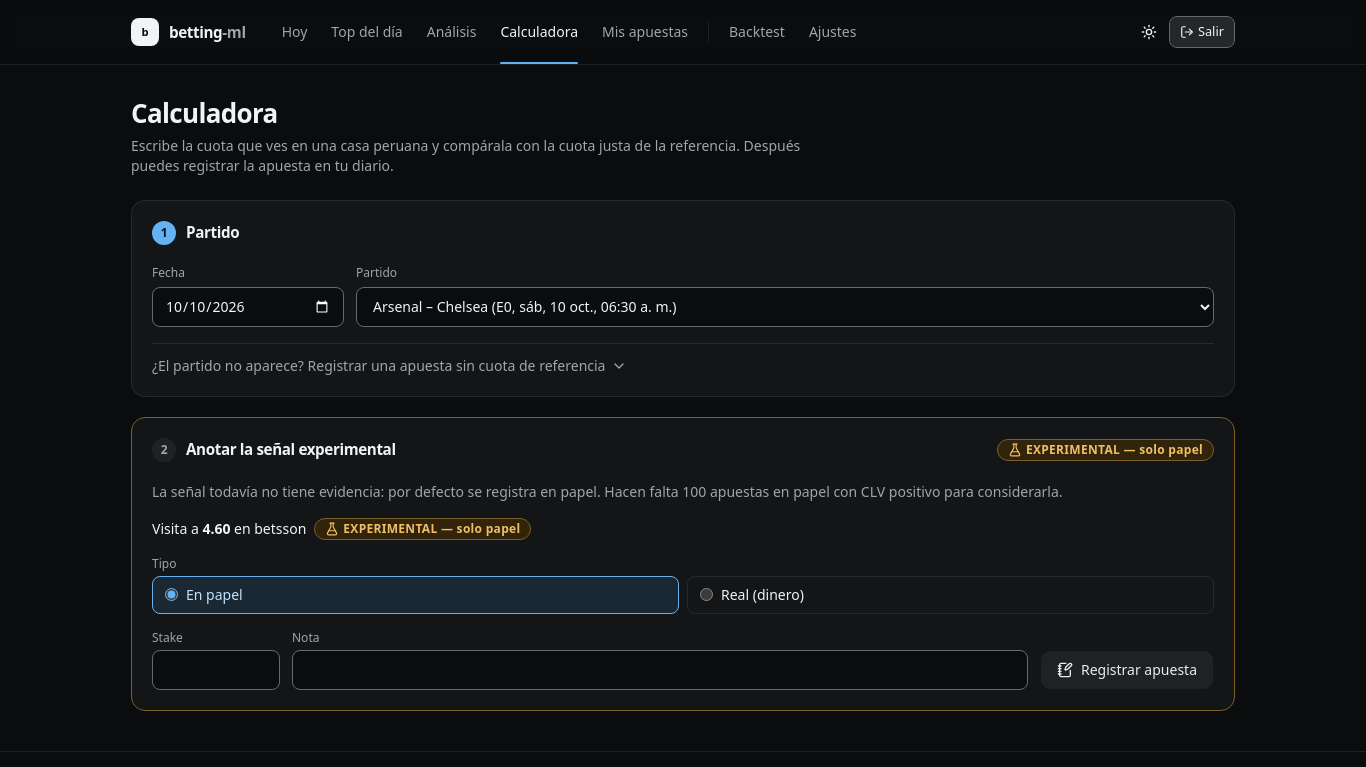
Test: a bet from the experimental signal defaults to paper and is flagged
Expected: the text "EXPERIMENTAL — solo papel" next to "betsson" is shown, [343,520,520,536]
Expected: the radio button labelled "En papel" is checked, [165,588,178,601]
Type "2" into the field labelled "Stake" at (216, 670), box [152,650,280,690]
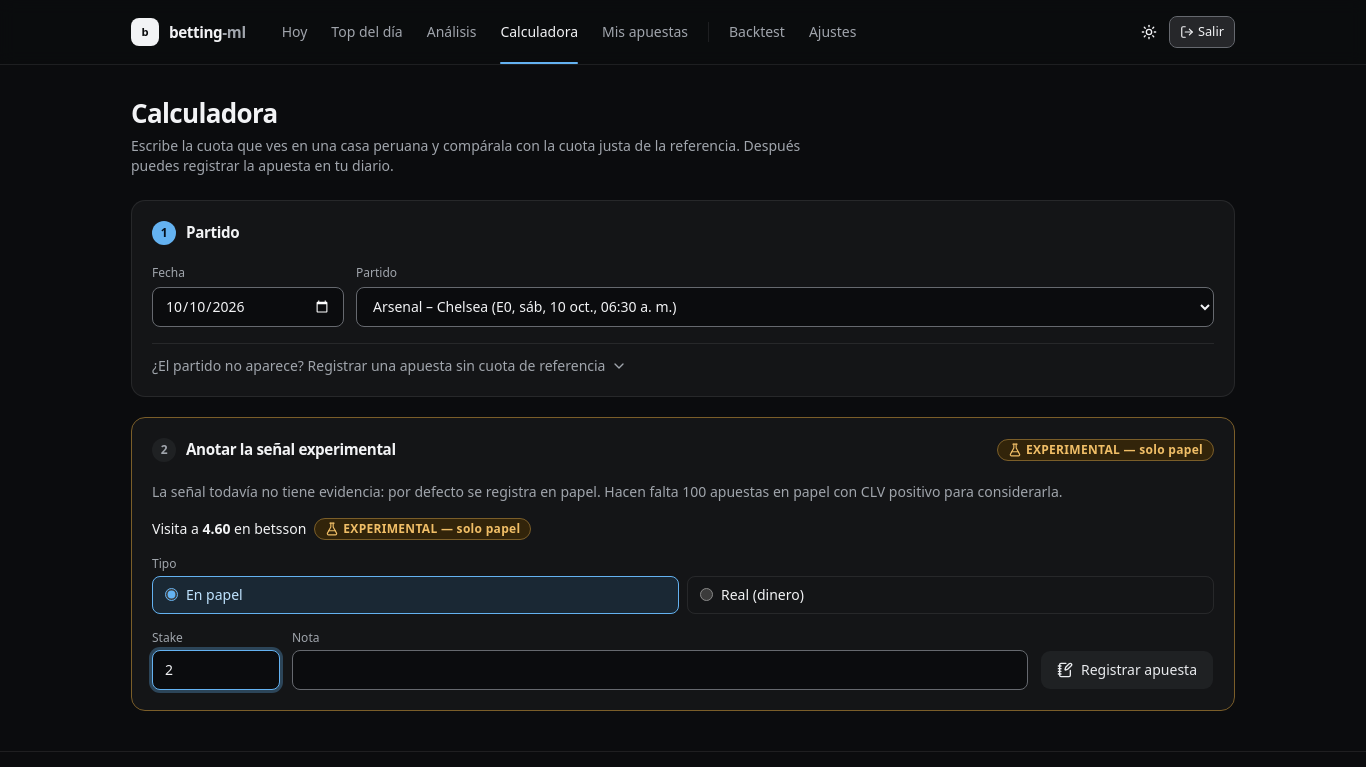
Click the button "Registrar apuesta" at (1127, 670), box [1040,650,1214,690]
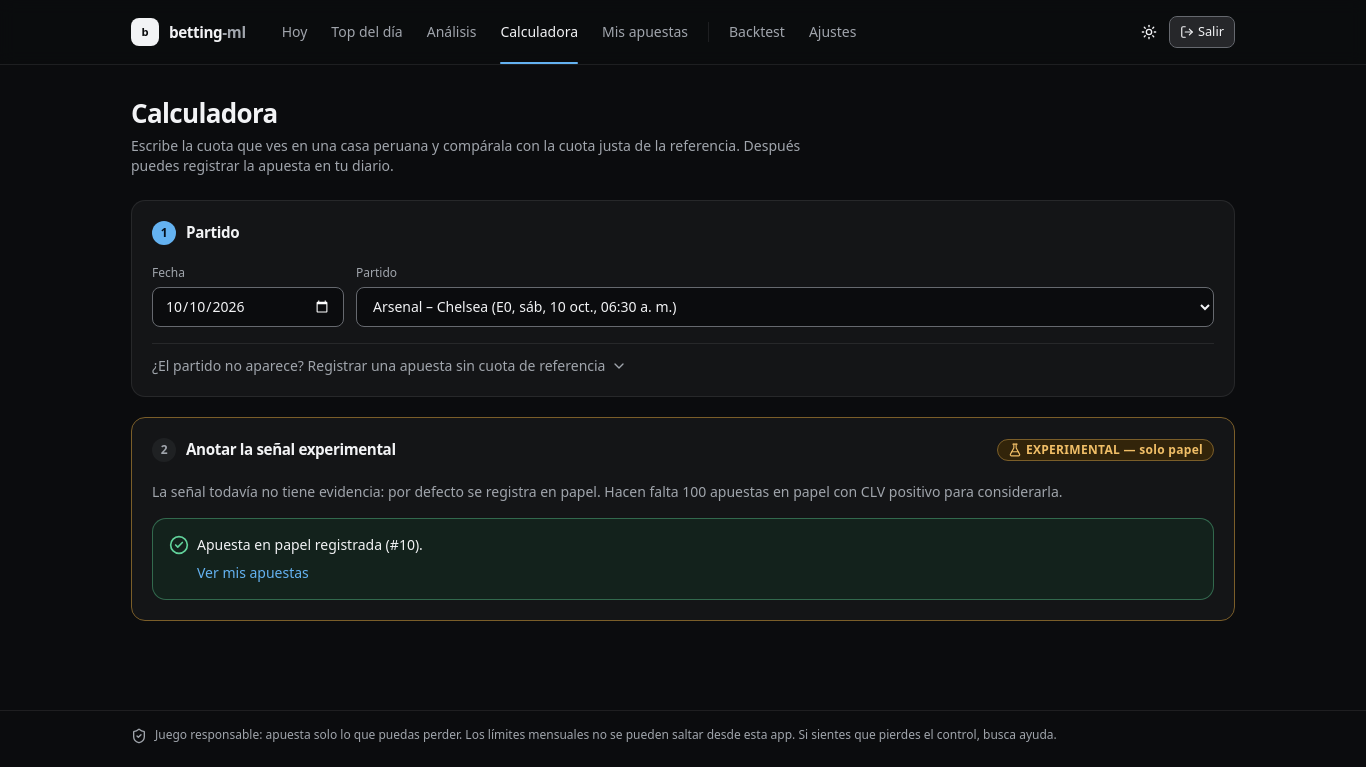
Now the text "Apuesta en papel registrada (#10)." is shown, box [169,534,423,554]
